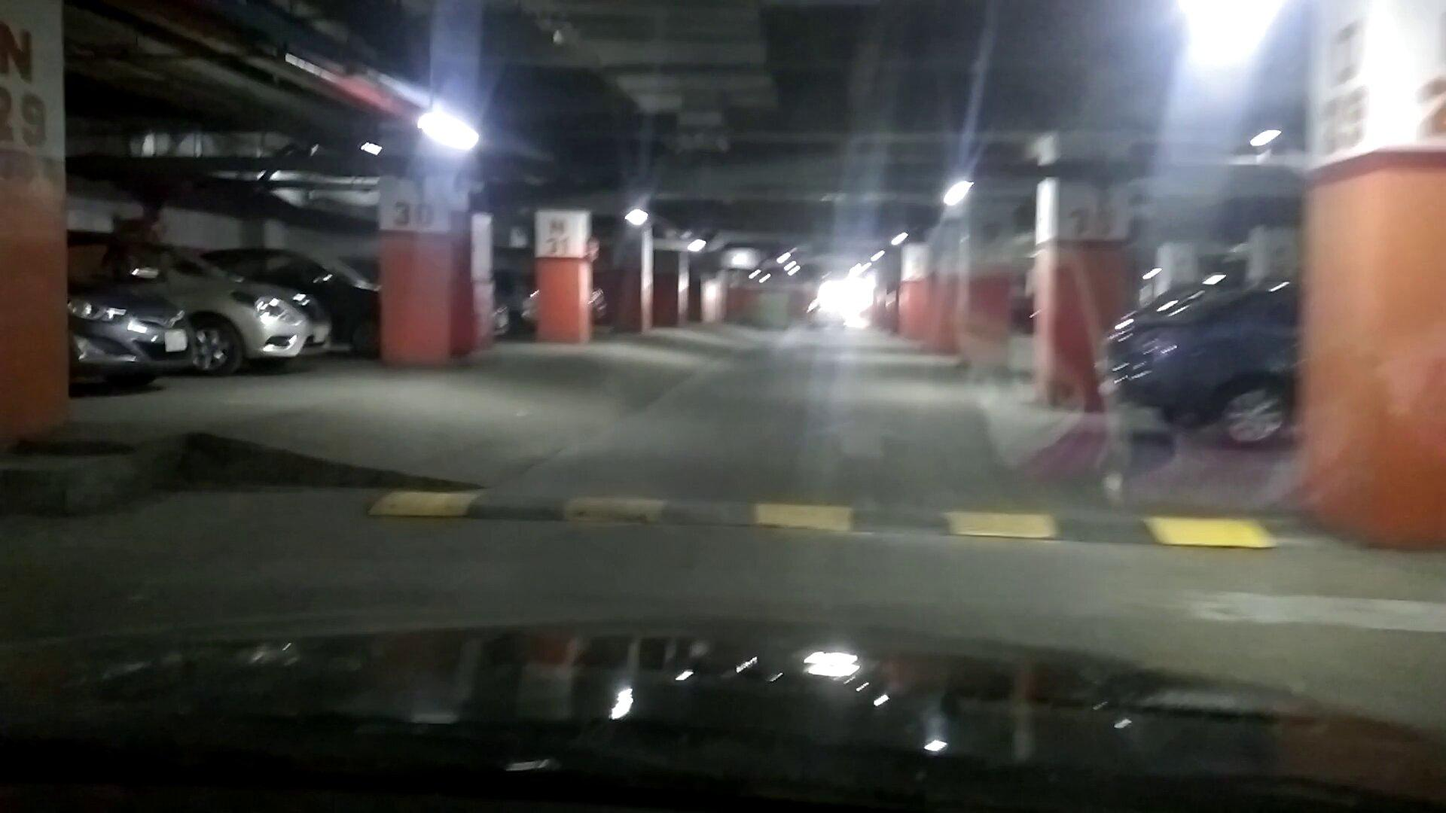Bump: (369, 476, 1290, 557)
